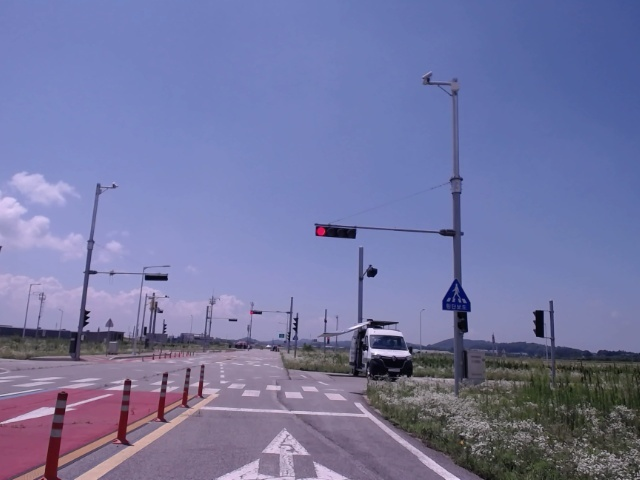red_4: (315, 226, 356, 239)
